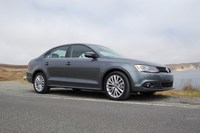car: (25, 42, 175, 101)
